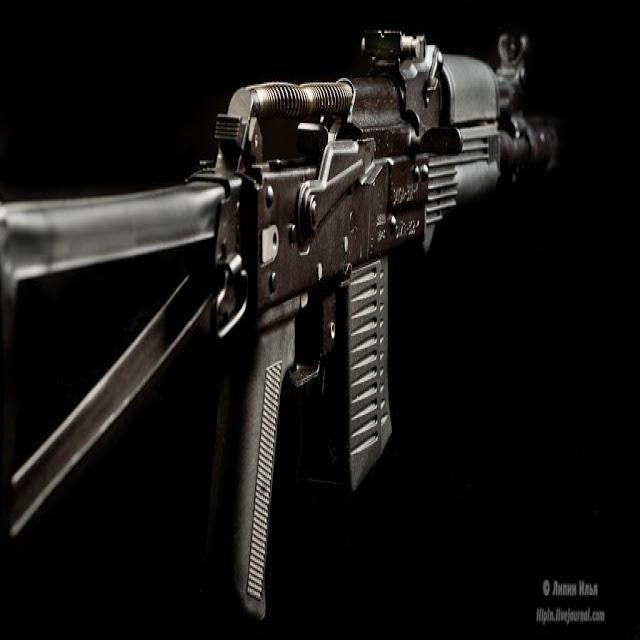firearm: (0, 27, 558, 613)
